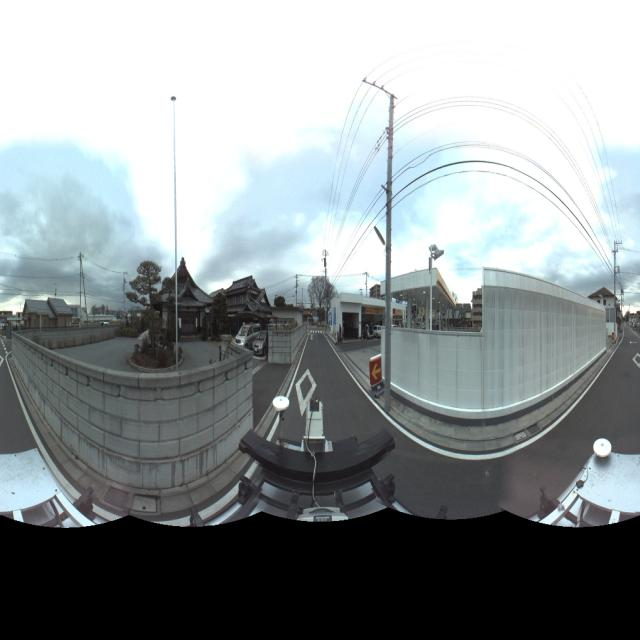b_1: (155, 254, 216, 340), (325, 283, 396, 341), (221, 270, 275, 338)
